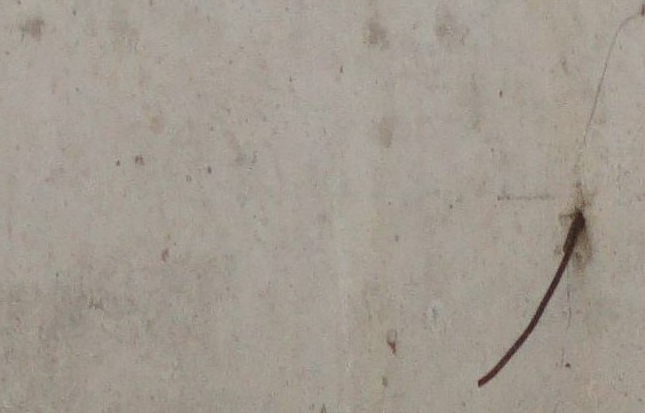Crack: (577, 15, 645, 153)
Exposed reinforcement: (476, 211, 586, 389)
